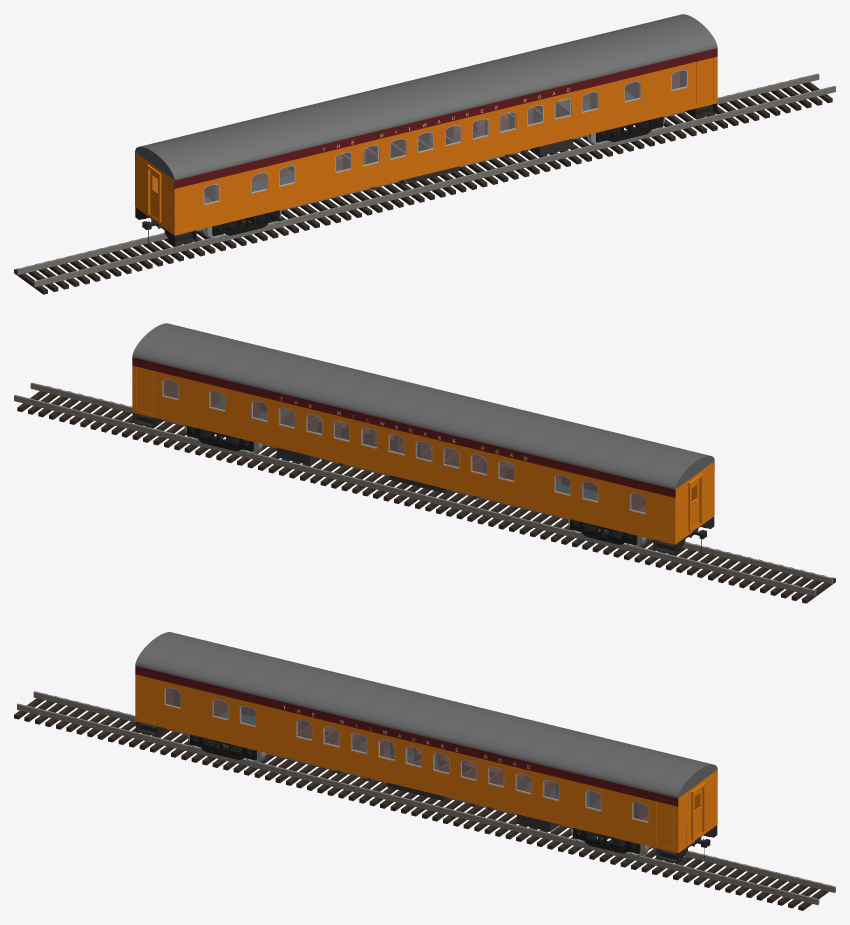
The model's file is MR1934_Coach4400_G.glb.
3 renders of one model, top to bottom at view 1: azimuth 30°, elevation 25°; view 2: azimuth 150°, elevation 25°; view 3: azimuth 330°, elevation 25°, orthographic.
Parts seen in each view (by area): view 1: orange, roof, ties, rails, maroon, glass, interior, trucks, rims, steps, equipment, floor; view 2: orange, roof, ties, rails, maroon, glass, interior, trucks, rims, steps, equipment, floor; view 3: orange, roof, ties, rails, maroon, glass, interior, trucks, rims, steps, equipment, floor.
Boxes of the visible parts, x1,y1,x2,y2 form: orange: (135, 56, 717, 235); roof: (135, 14, 717, 180); ties: (14, 77, 832, 294); rails: (16, 73, 835, 287); maroon: (135, 48, 717, 188); glass: (204, 70, 686, 203); interior: (204, 70, 686, 203); trucks: (212, 116, 663, 236); rims: (203, 70, 687, 205); steps: (135, 103, 717, 245); equipment: (399, 138, 573, 184); floor: (150, 91, 635, 228); orange: (132, 365, 714, 544); roof: (132, 323, 714, 489); ties: (17, 386, 835, 603); rails: (14, 382, 832, 596); maroon: (132, 357, 714, 497); glass: (163, 379, 645, 512); interior: (163, 379, 645, 512); trucks: (186, 425, 637, 545); rims: (162, 379, 645, 514); steps: (132, 412, 714, 554); equipment: (276, 447, 450, 493); floor: (214, 394, 699, 537); orange: (135, 674, 717, 853); roof: (135, 632, 717, 798); ties: (14, 693, 831, 910); rails: (17, 691, 835, 904); maroon: (135, 666, 717, 806); glass: (165, 688, 647, 821); interior: (166, 688, 647, 821); trucks: (189, 734, 640, 853); rims: (164, 687, 648, 822); steps: (135, 721, 717, 863); equipment: (387, 782, 559, 831); floor: (219, 710, 702, 846).
Bounding box in the file's own units: 1.24 × 0.1479 × 0.1064.
